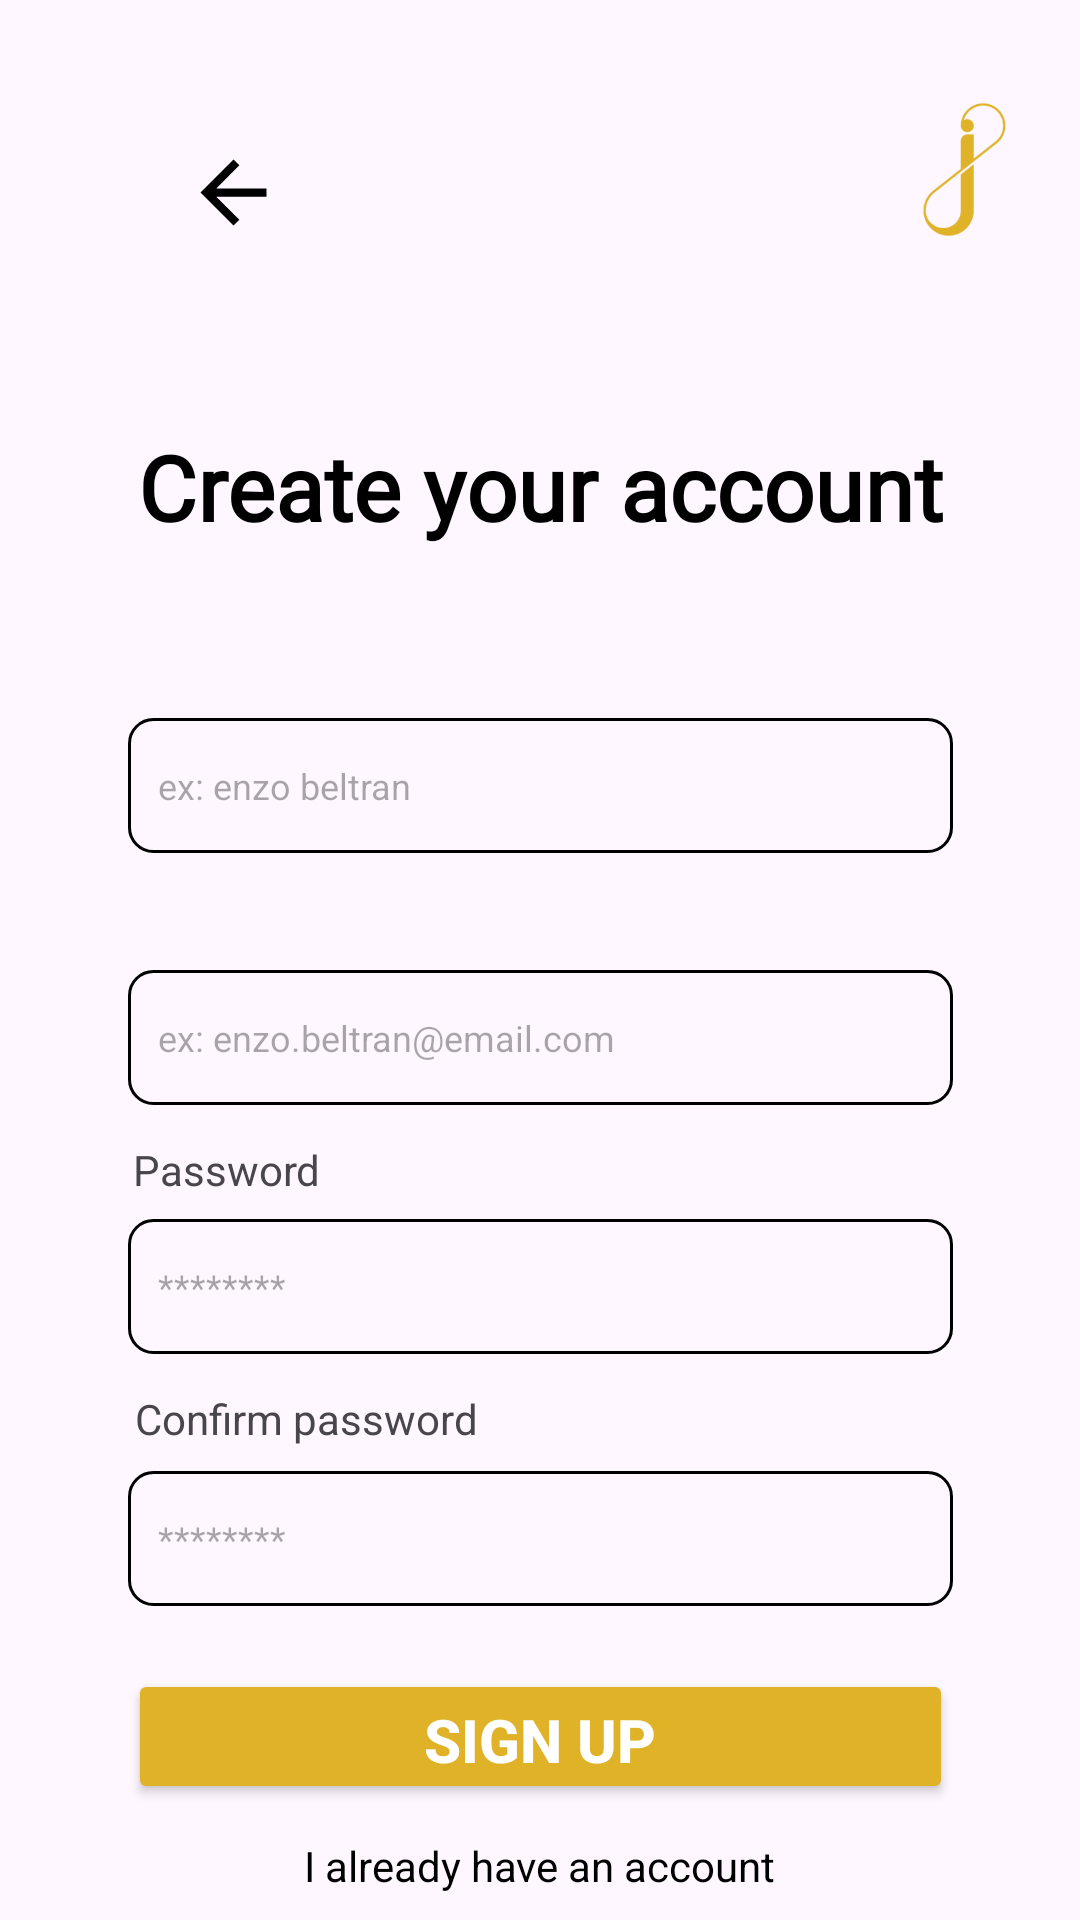

Screen size 1080 x 1920. Icon name, then its box in pixels as [left=x1, top=y1, right=x2, bottom=y2]:
arrowback: [left=200, top=159, right=267, bottom=226]
